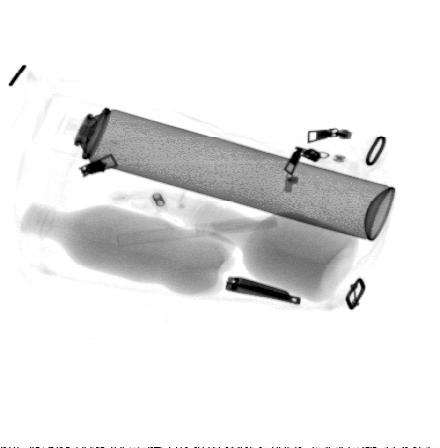Sprayer: (30, 91, 398, 243)
